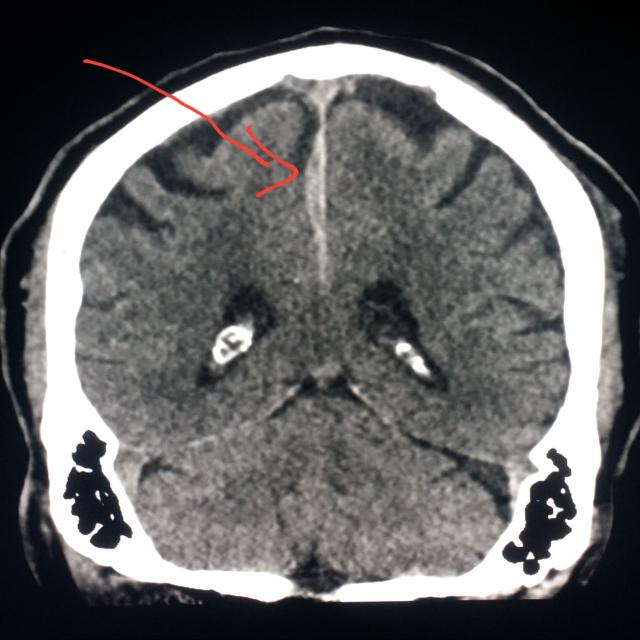Tumor: (288, 77, 358, 296)
